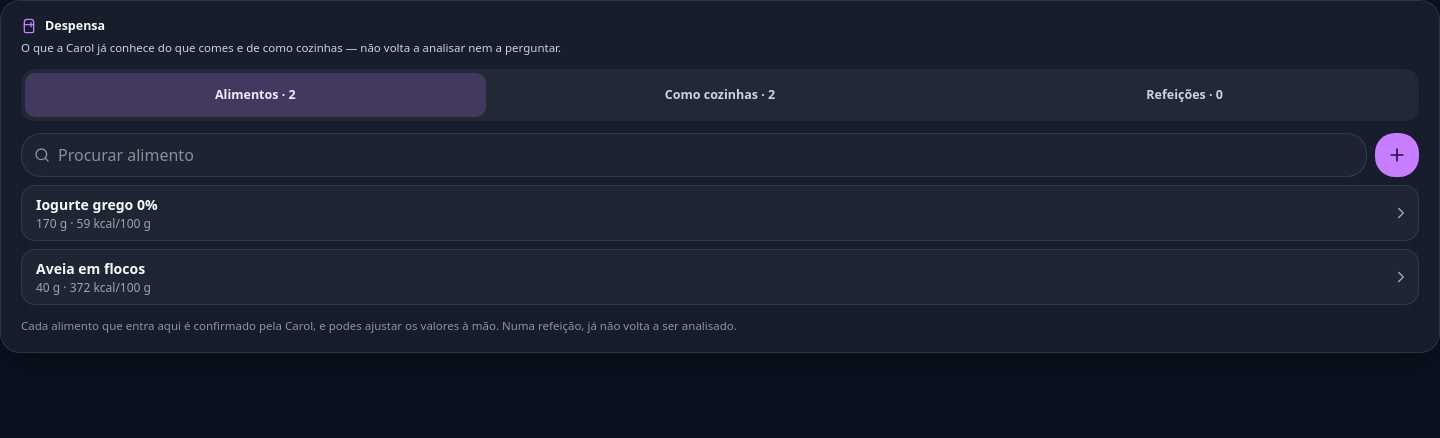
PantrySection › "Como cozinhas" mostra as confirmadas e as que variam — não as por confirmar
Step 1. Click the tab "Como cozinhas · 2" → coordinates (720, 95), box [490, 73, 950, 117]
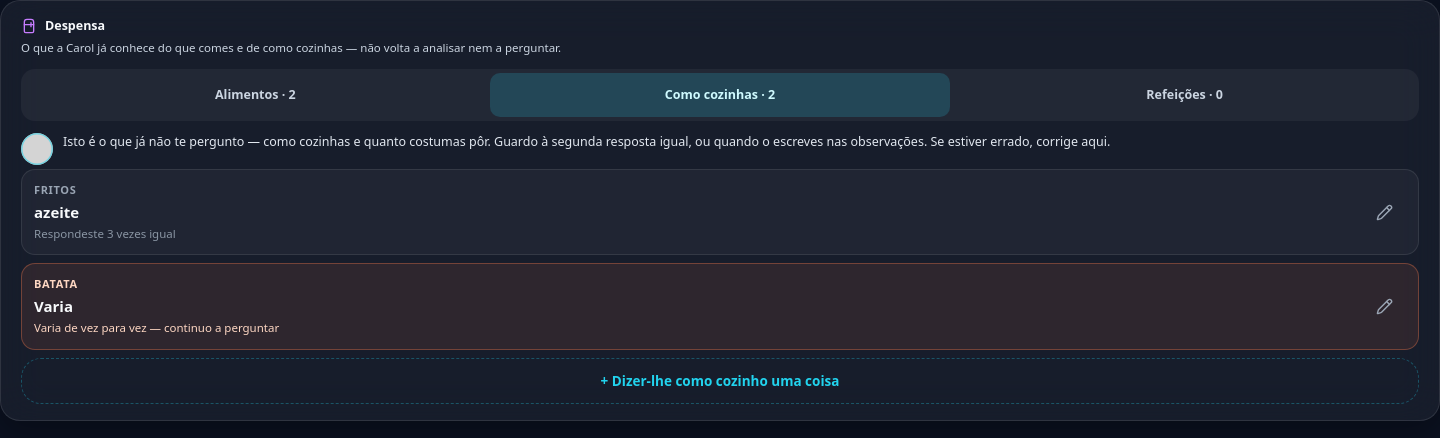
Result: the list named "Como cozinhas" shows "azeite" at [34, 202, 79, 222]
Result: the list named "Como cozinhas" shows "Respondeste 3 vezes igual" at [34, 226, 176, 241]
Result: the list named "Como cozinhas" shows "Varia" at [34, 296, 73, 316]
